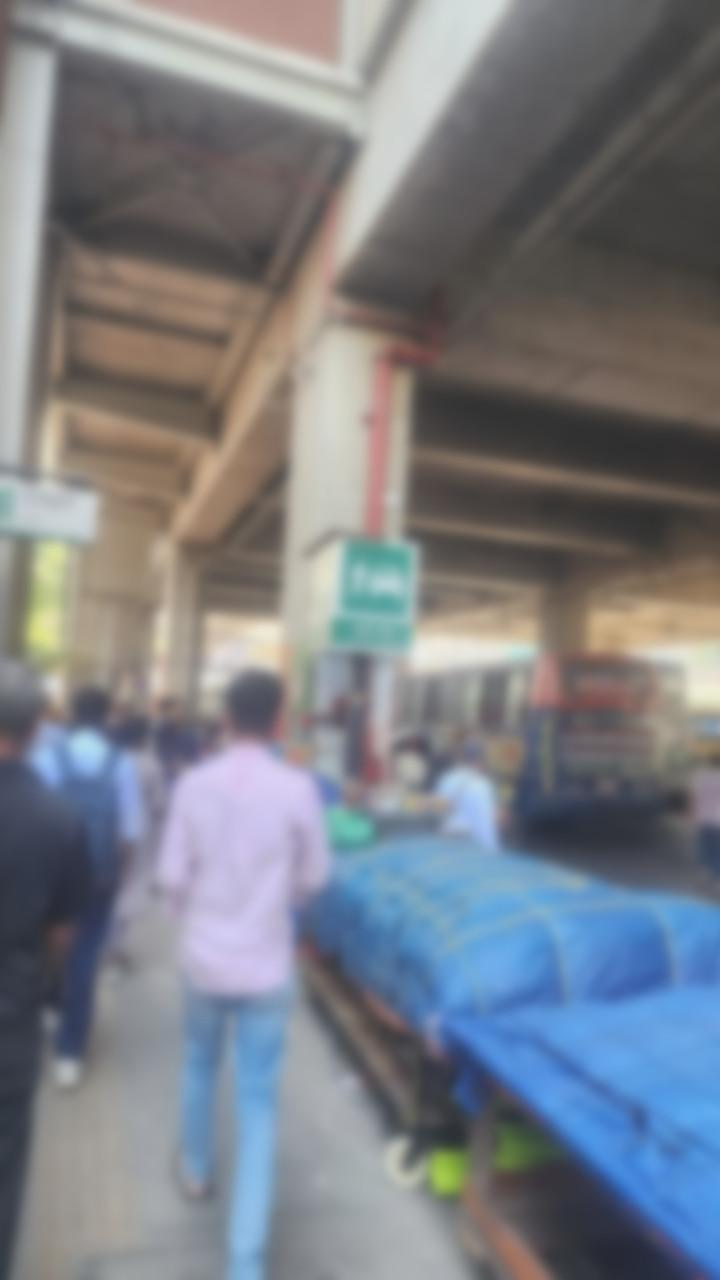Metro Dorp Up Pick up: (326, 537, 419, 653)
